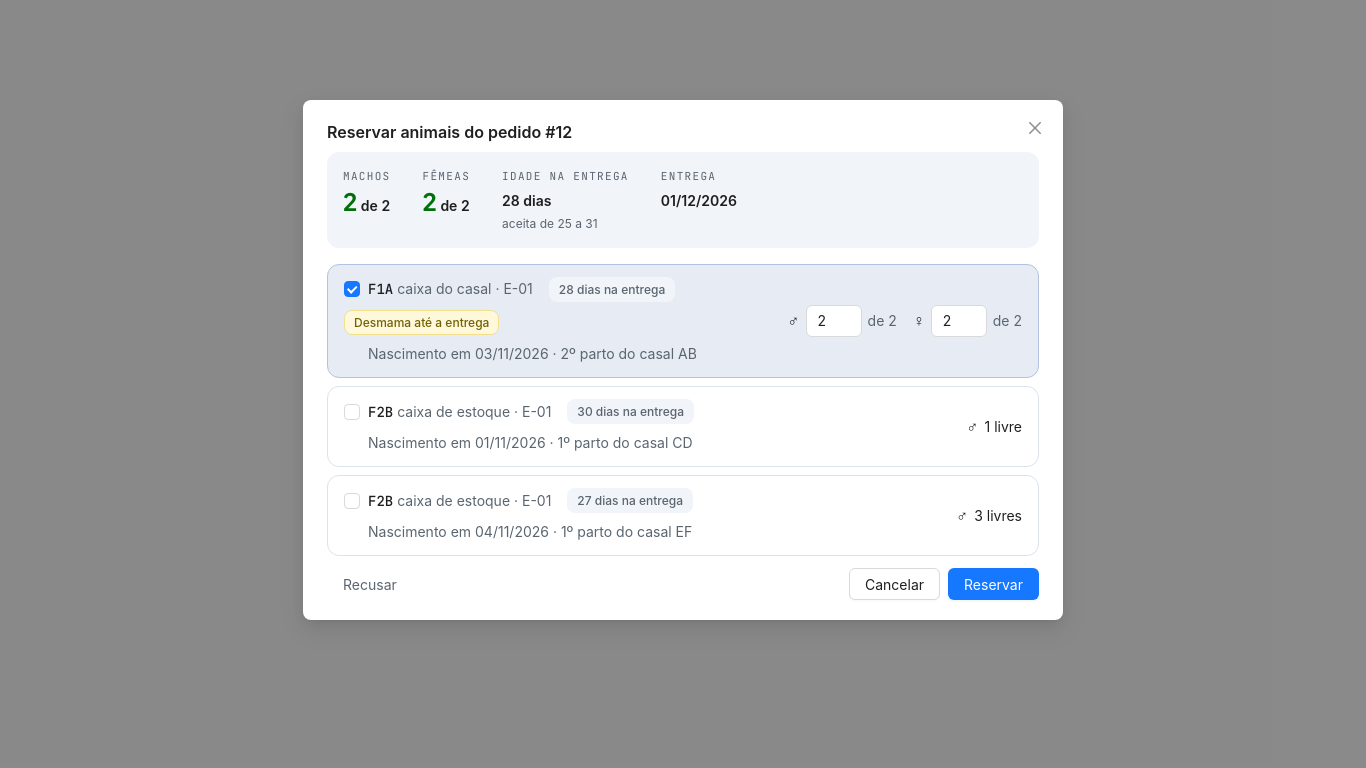
Test: reservar os animais do pedido aprovado › a equipe ajusta a sugestão e completa com outro lugar da mesma caixa
Later steps or results of the test are not shown.
Replace the text in the number field named "Machos a reservar da caixa F1A, nascimento em 03/11/2026" with "1": [834, 321] box [807,306,861,336]
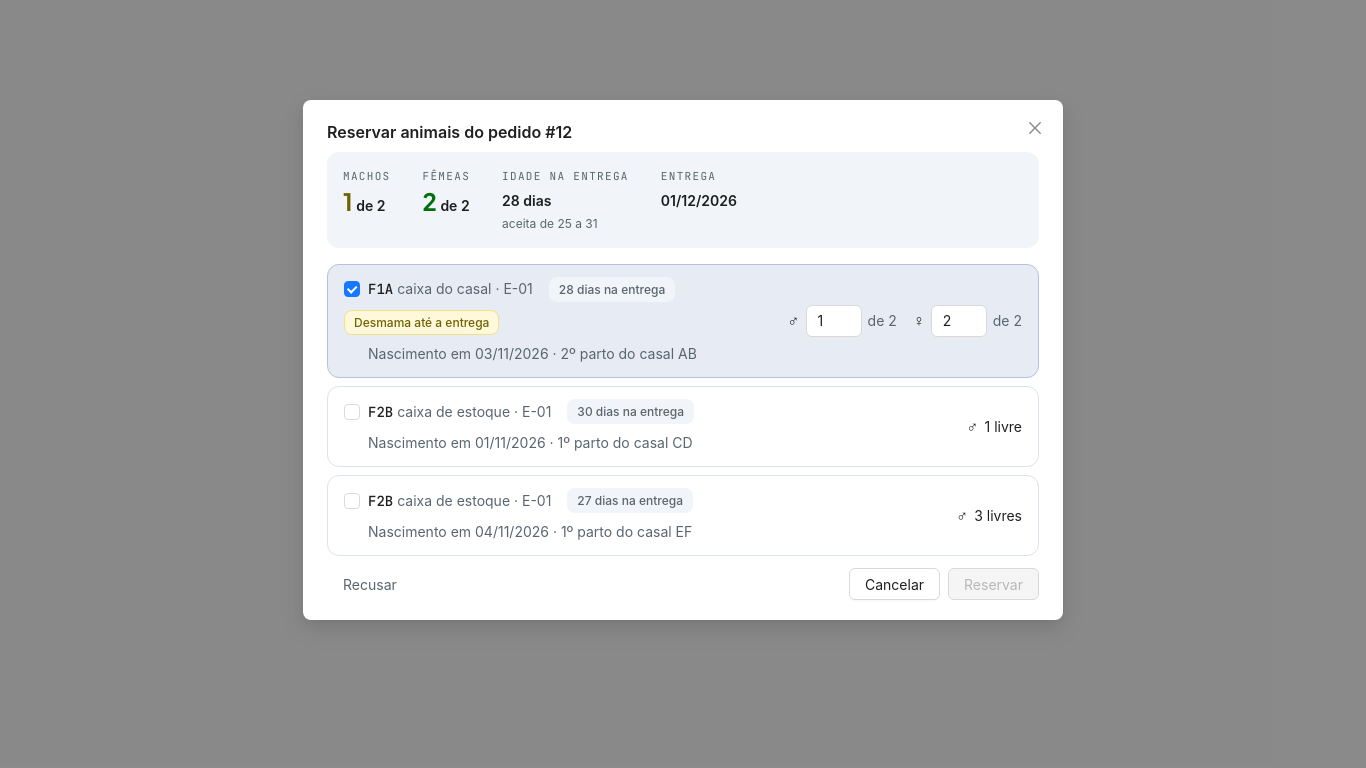
Expected: the element showing "1 de 2" is shown, [343,185,390,222]
Expected: the button "Reservar" is disabled, [948,568,1039,600]
marcado, o outro lugar entra com o que falta
Click the checkbox named "Reservar da caixa F2B, nascimento em 04/11/2026": [452, 501] box [344,490,559,512]
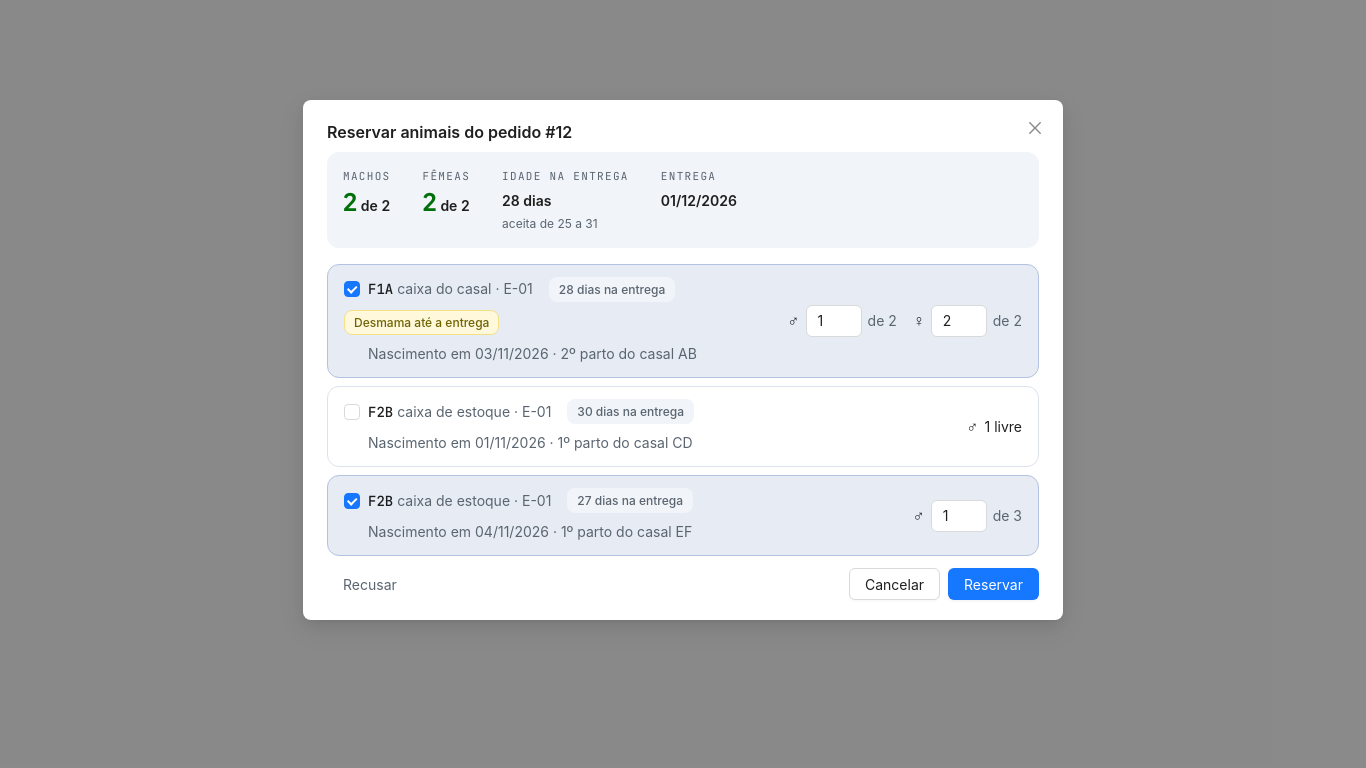
Expected: the button "Reservar" is enabled, [948,568,1039,600]
